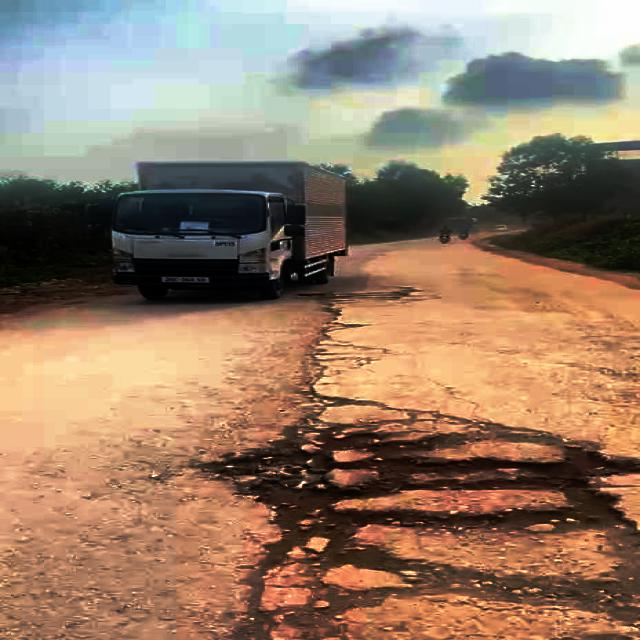pothole: (201, 406, 640, 640)
